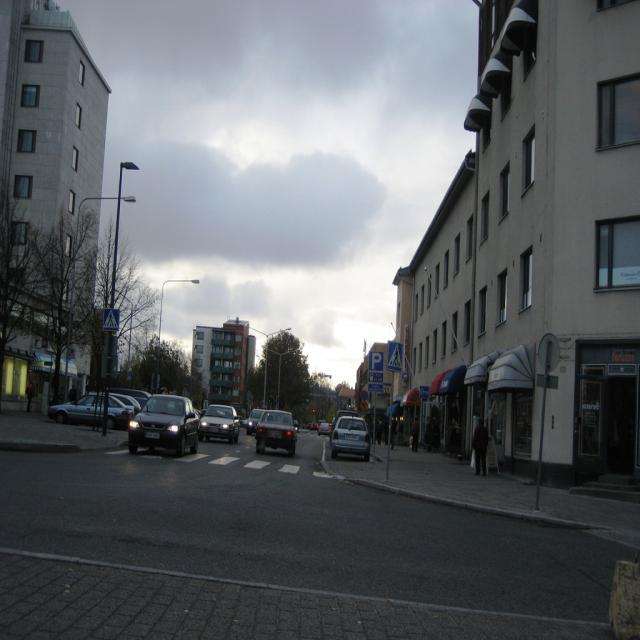other: (51, 393, 373, 461)
